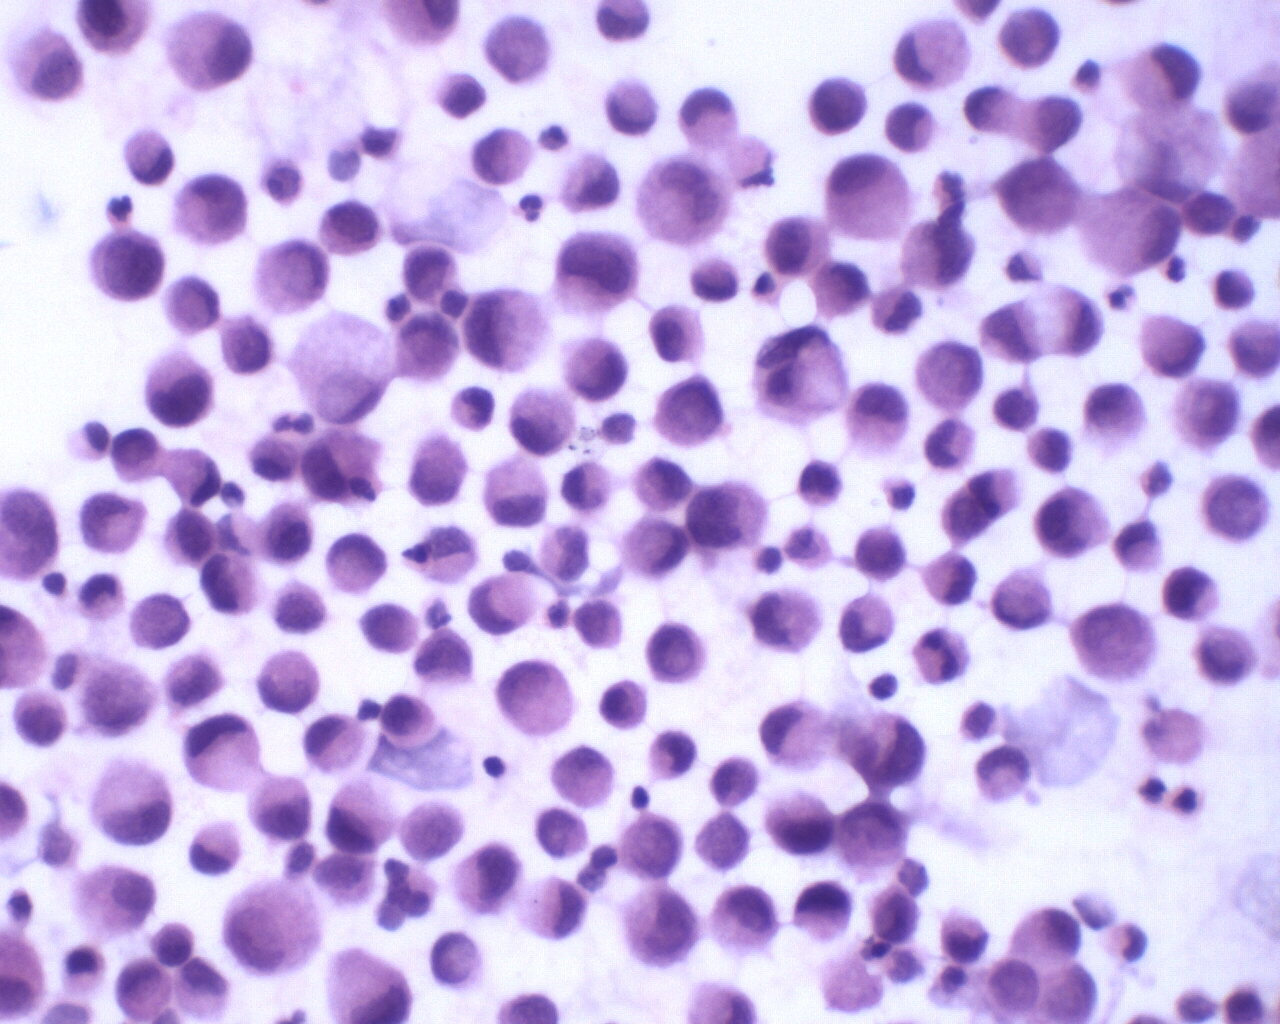ab: (1067, 599, 1163, 688), (615, 880, 707, 971), (684, 470, 773, 559), (85, 225, 170, 308), (143, 348, 219, 433), (445, 840, 522, 920), (757, 791, 839, 863), (759, 208, 837, 283), (1198, 471, 1276, 546), (650, 375, 728, 449), (910, 338, 990, 411), (1167, 376, 1243, 449), (394, 308, 466, 385), (315, 197, 393, 263), (614, 812, 684, 883), (1194, 616, 1260, 686), (252, 497, 313, 566), (808, 71, 869, 138), (647, 618, 706, 686), (159, 507, 222, 572), (629, 451, 696, 512), (9, 685, 69, 753), (127, 591, 191, 654), (216, 315, 277, 378), (866, 883, 923, 950), (533, 804, 594, 865), (355, 603, 424, 655), (850, 520, 911, 578)
histo: (174, 712, 264, 792), (893, 15, 978, 94)
meso: (216, 877, 326, 986), (68, 858, 159, 950), (824, 152, 914, 241), (1031, 482, 1102, 561), (597, 675, 657, 732)
neutro: (104, 189, 146, 228), (514, 188, 553, 227)
